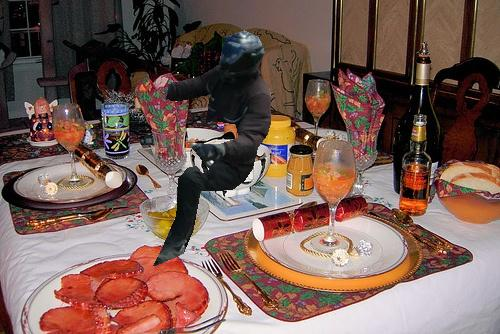tampered: (154, 31, 271, 266)
